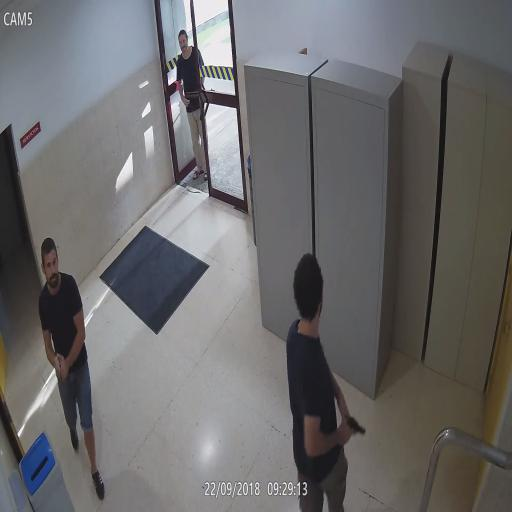Handgun: (340, 411, 369, 448), (51, 346, 67, 386)
